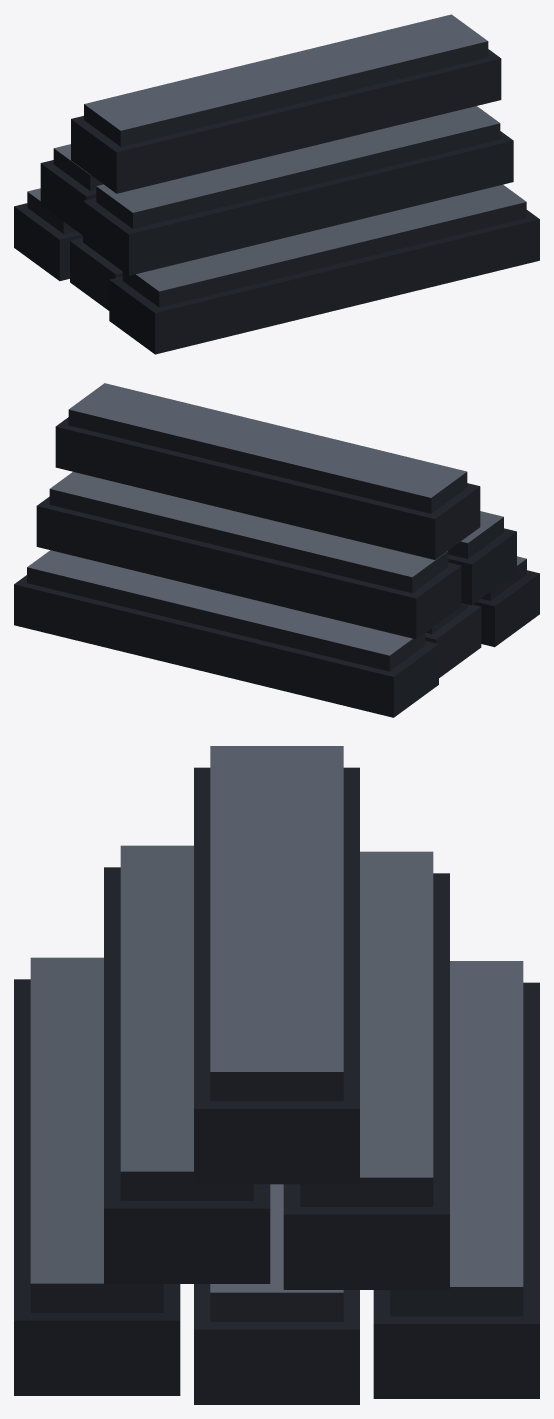
Rendered from IronBundle.glb.
The picture shows the model from 3 angles, top to bottom: view 1: azimuth 30°, elevation 25°; view 2: azimuth 150°, elevation 25°; view 3: azimuth 270°, elevation 25°; orthographic projection. The views are drawn at different scales.
Parts seen in each view (by area): view 1: IronBundle; view 2: IronBundle; view 3: IronBundle.
Boxes of the visible parts, x1,y1,x2,y2 form: IronBundle: (14, 14, 539, 354); IronBundle: (14, 383, 539, 717); IronBundle: (14, 746, 539, 1404).
Size of the model in its own units: 0.4915 by 0.212 by 0.31.
